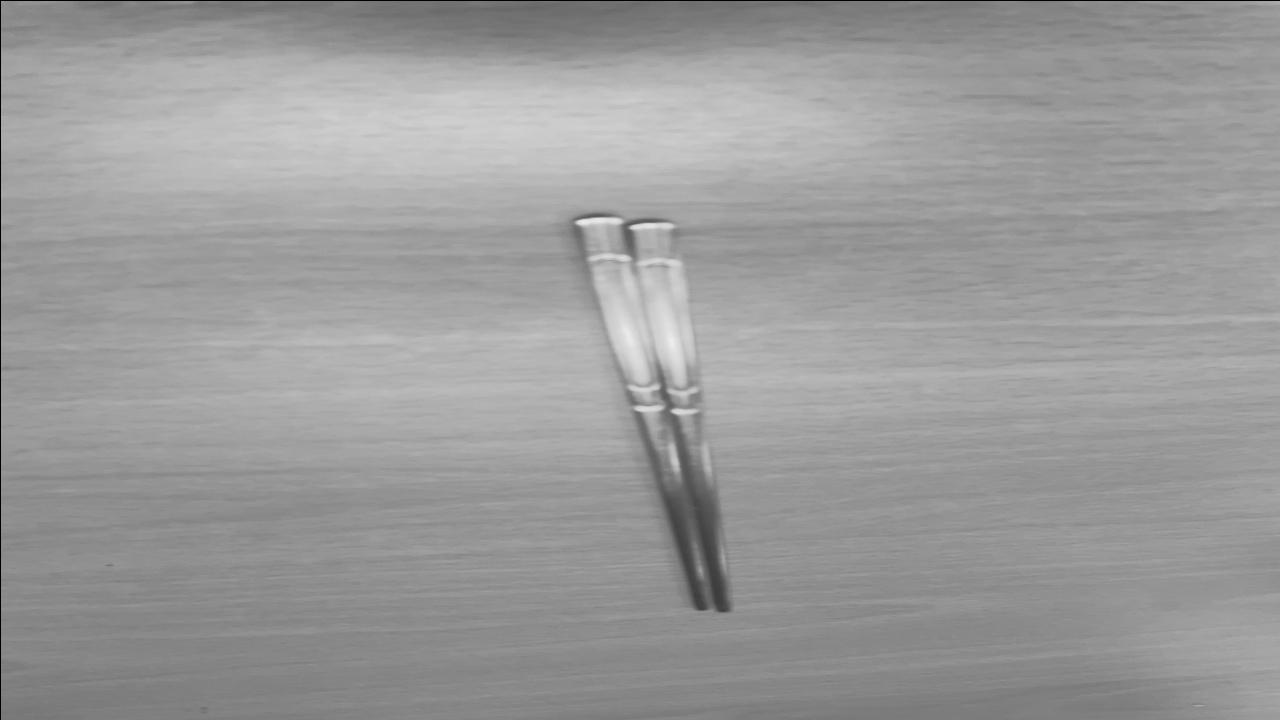chopstick: (584, 219, 730, 610)
